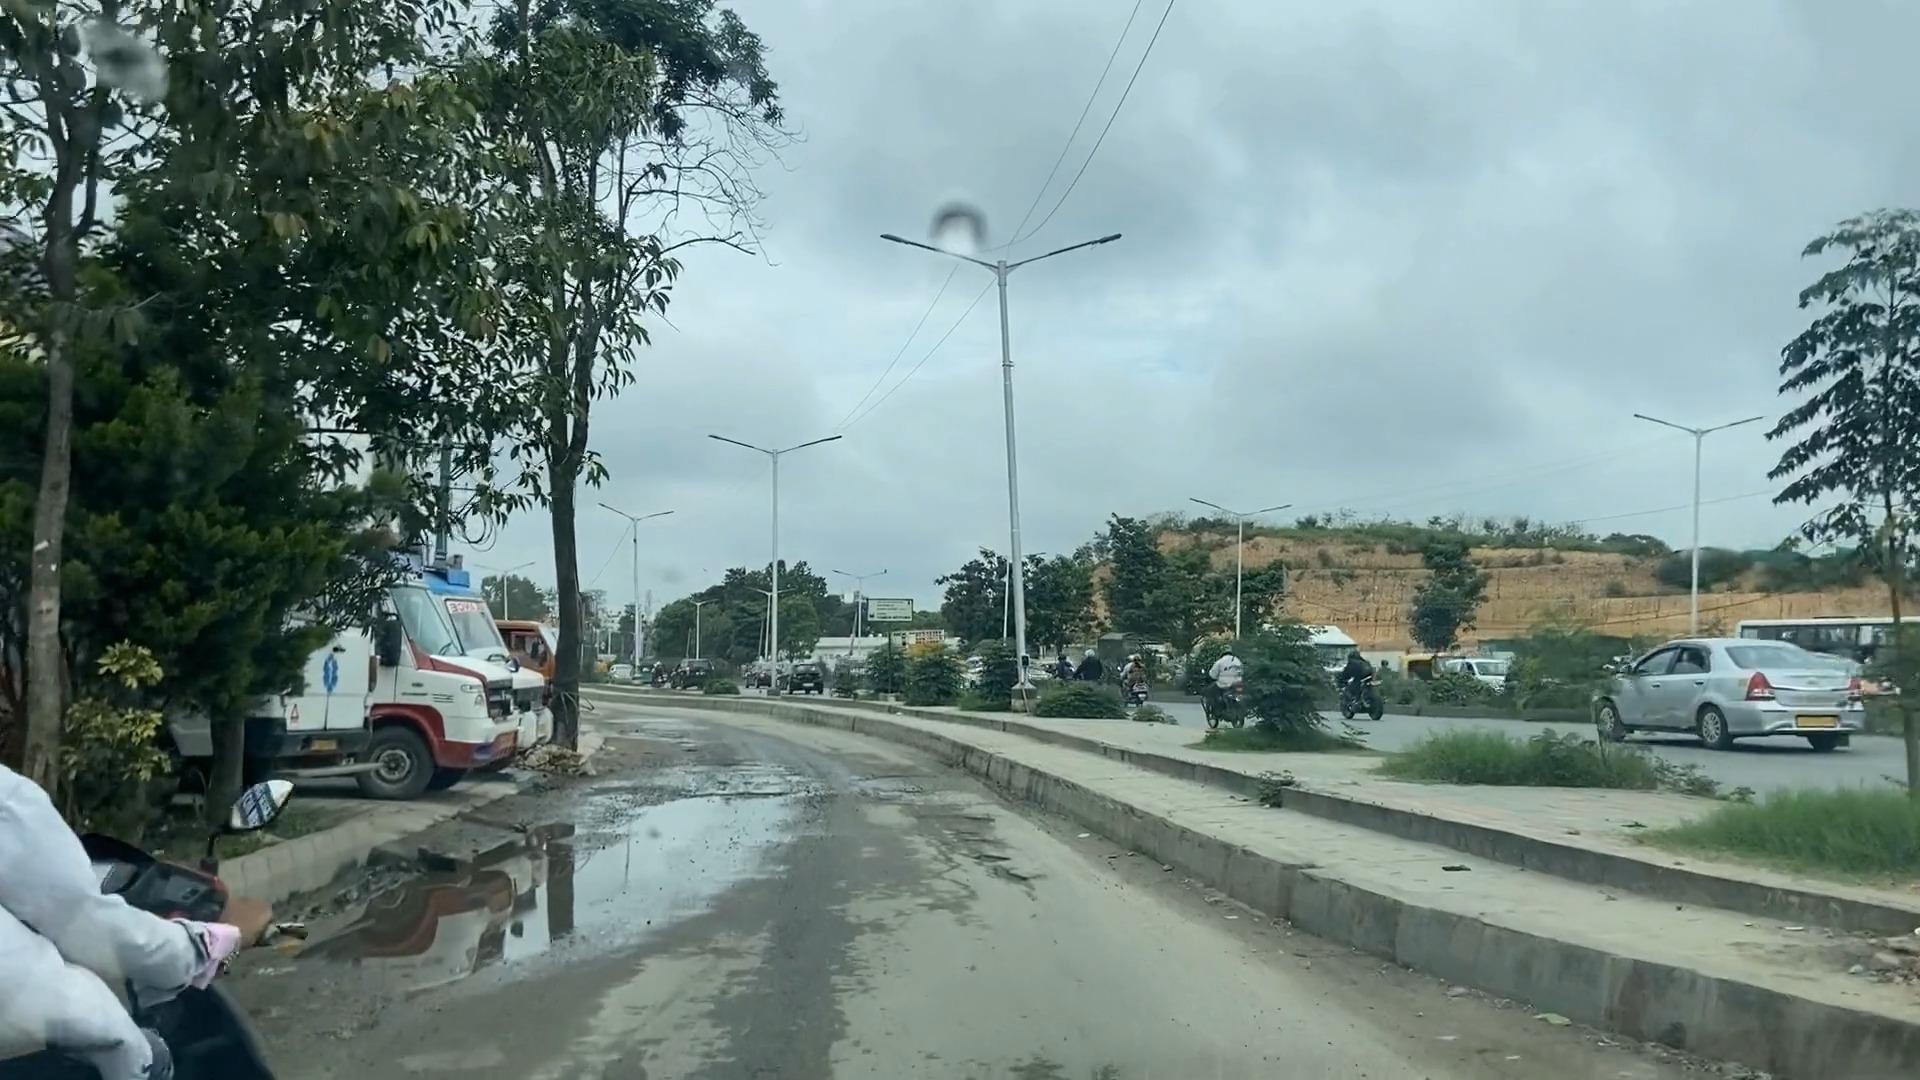RoadDamages: (916, 800, 1040, 930), (637, 731, 794, 815), (851, 757, 920, 798)
